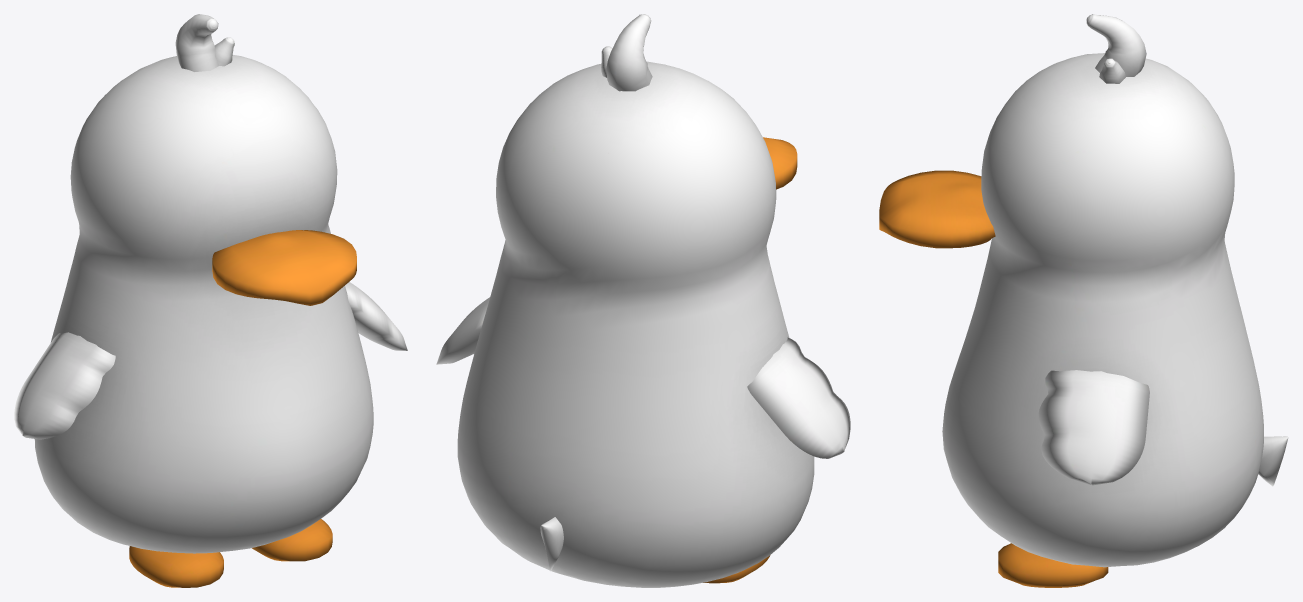
Rendered from patito.glb.
3 renders of one model, left to right at view 1: azimuth 30°, elevation 25°; view 2: azimuth 150°, elevation 25°; view 3: azimuth 270°, elevation 25°, orthographic. The views are drawn at different scales.
Parts seen in each view (by area): view 1: cuerpo, cabeza, brazoI, copete, brazoD; view 2: cuerpo, brazoI, copete, brazoD, cabeza; view 3: cuerpo, brazoD, cabeza, copete.
Boxes of the visible parts, x1,y1,x2,y2 form: cuerpo: (34,55,373,587); cabeza: (212,230,356,305); brazoI: (14,332,115,439); copete: (175,14,234,71); brazoD: (345,282,407,350); cuerpo: (457,61,814,587); brazoI: (747,337,850,458); copete: (601,14,652,91); brazoD: (436,297,489,364); cabeza: (763,137,797,189); cuerpo: (942,53,1288,587); brazoD: (1038,370,1149,485); cabeza: (879,170,995,248); copete: (1086,14,1146,83).
Bounding box in the file's own units: 1.95 × 2.59 × 1.8.
Materials: 2 (2 with a texture image).
